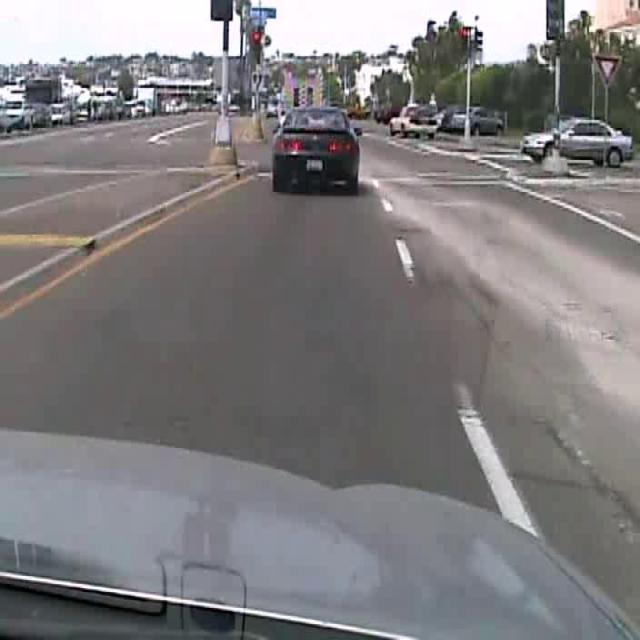yield: (592, 51, 622, 88)
